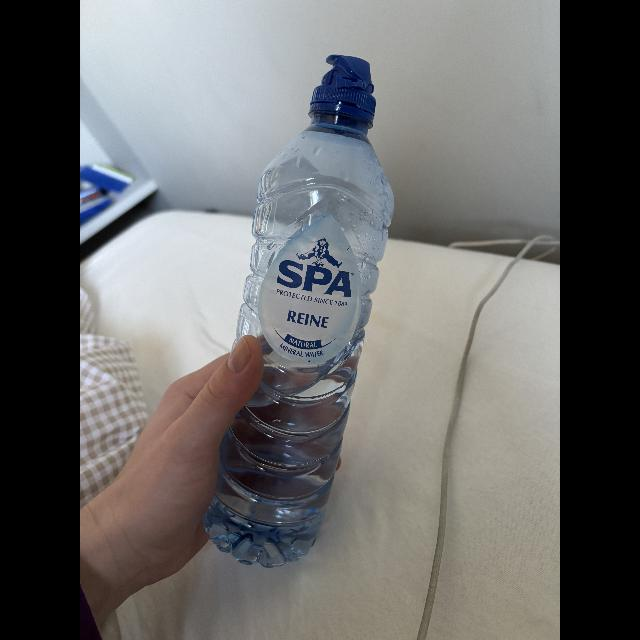Plastic: (200, 51, 390, 567)
